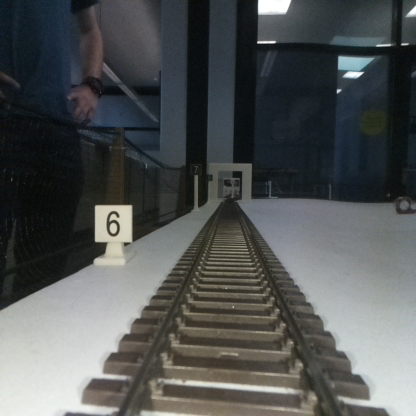black-info-7: (192, 164, 200, 211)
white-stop-6: (94, 204, 131, 263)
